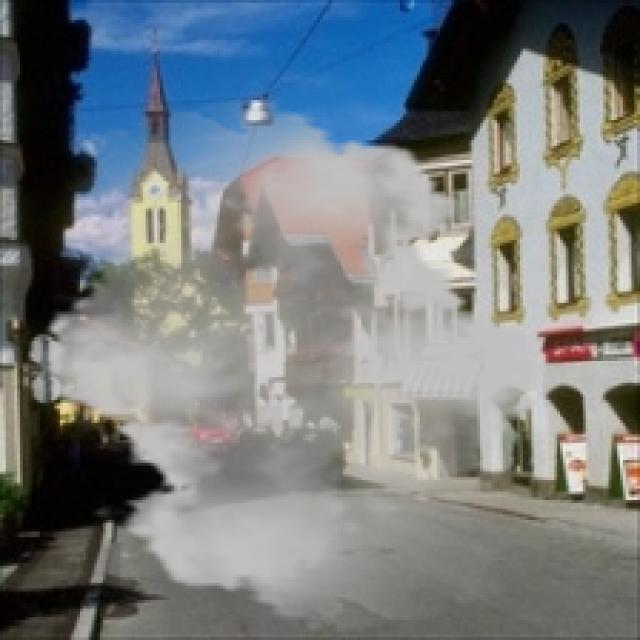Smoke: (23, 99, 560, 632)
